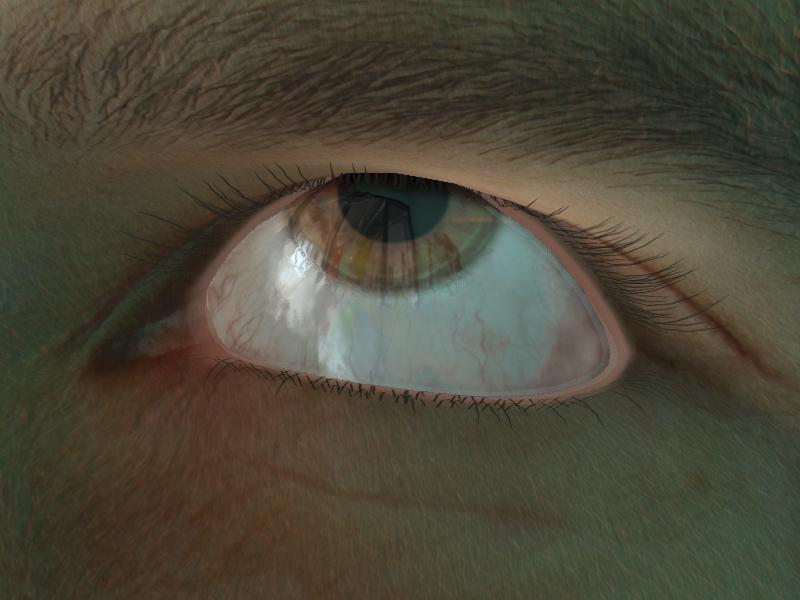eye: (291, 171, 505, 293)
